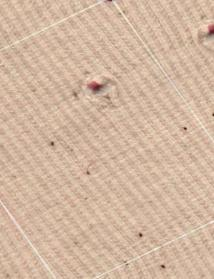hole: (73, 70, 121, 106), (197, 14, 213, 49)
stain: (75, 161, 100, 186), (39, 134, 63, 154), (132, 225, 149, 246), (174, 121, 195, 137), (156, 259, 172, 276)
